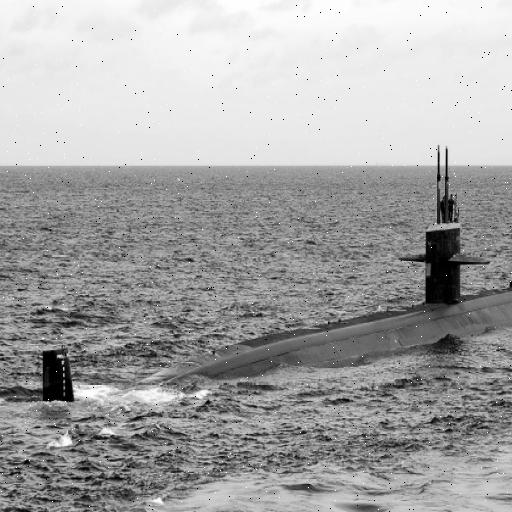submarine: (44, 145, 512, 402)
